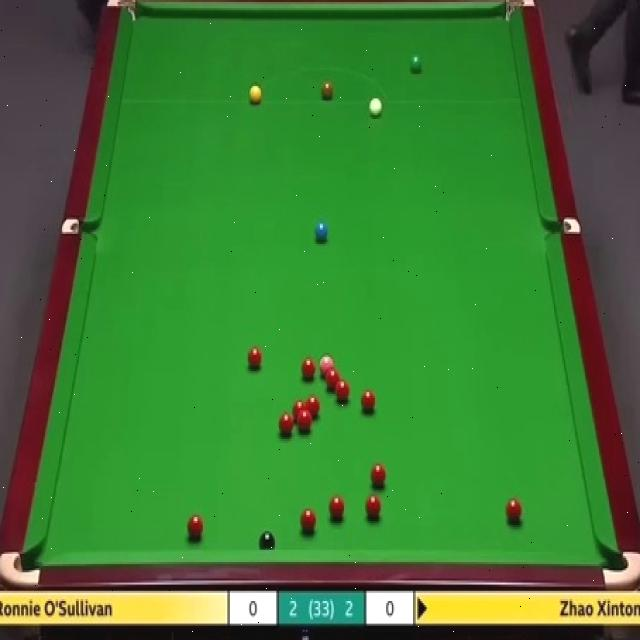black-ball: (260, 530, 278, 550)
blue-ball: (314, 222, 329, 240)
brown-ball: (322, 82, 334, 104)
green-ball: (410, 53, 423, 68)
pink-ball: (319, 355, 334, 375)
red-ball: (329, 492, 345, 521), (305, 395, 322, 421), (300, 508, 317, 534), (186, 514, 203, 539), (505, 497, 522, 522), (371, 462, 386, 490), (278, 412, 294, 437), (366, 495, 382, 518), (248, 346, 261, 371), (298, 410, 312, 432), (360, 391, 376, 410), (300, 358, 314, 378), (326, 368, 340, 388), (292, 401, 306, 420), (336, 382, 348, 404)
white-ball: (369, 97, 382, 119)
yellow-ball: (249, 84, 262, 105)
